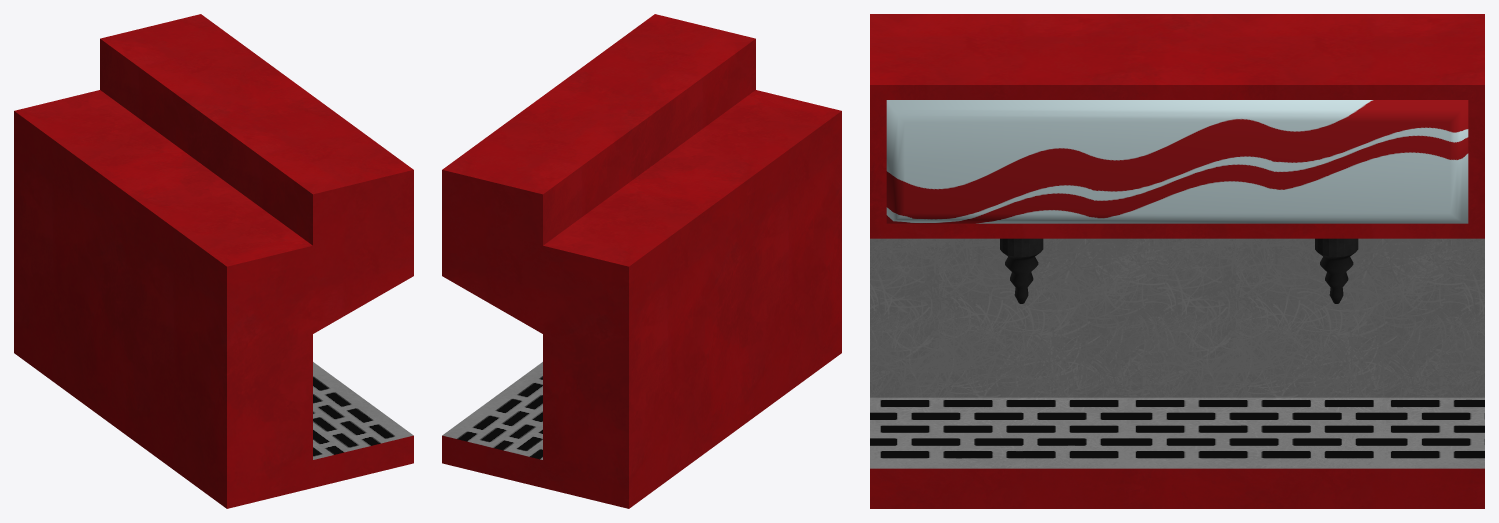
The model's file is Mesh_Fontaine.FBX.
The picture shows the model from 3 angles, left to right: view 1: azimuth 30°, elevation 25°; view 2: azimuth 150°, elevation 25°; view 3: azimuth 270°, elevation 25°; orthographic projection. The views are drawn at different scales.
Visible parts, largest first — view 1: Box015; view 2: Box015; view 3: Box015.
Part boxes in pixels (<box>): Box015: <box>14,14,413,508</box>; Box015: <box>442,14,841,508</box>; Box015: <box>870,14,1484,508</box>.
Size of the model in its own units: 30.85 by 44.34 by 58.28.
